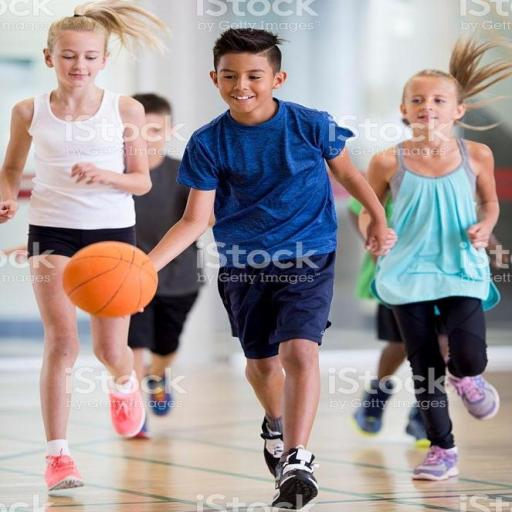person: (150, 29, 389, 508), (0, 0, 165, 490), (368, 38, 511, 480), (129, 243, 200, 415)
